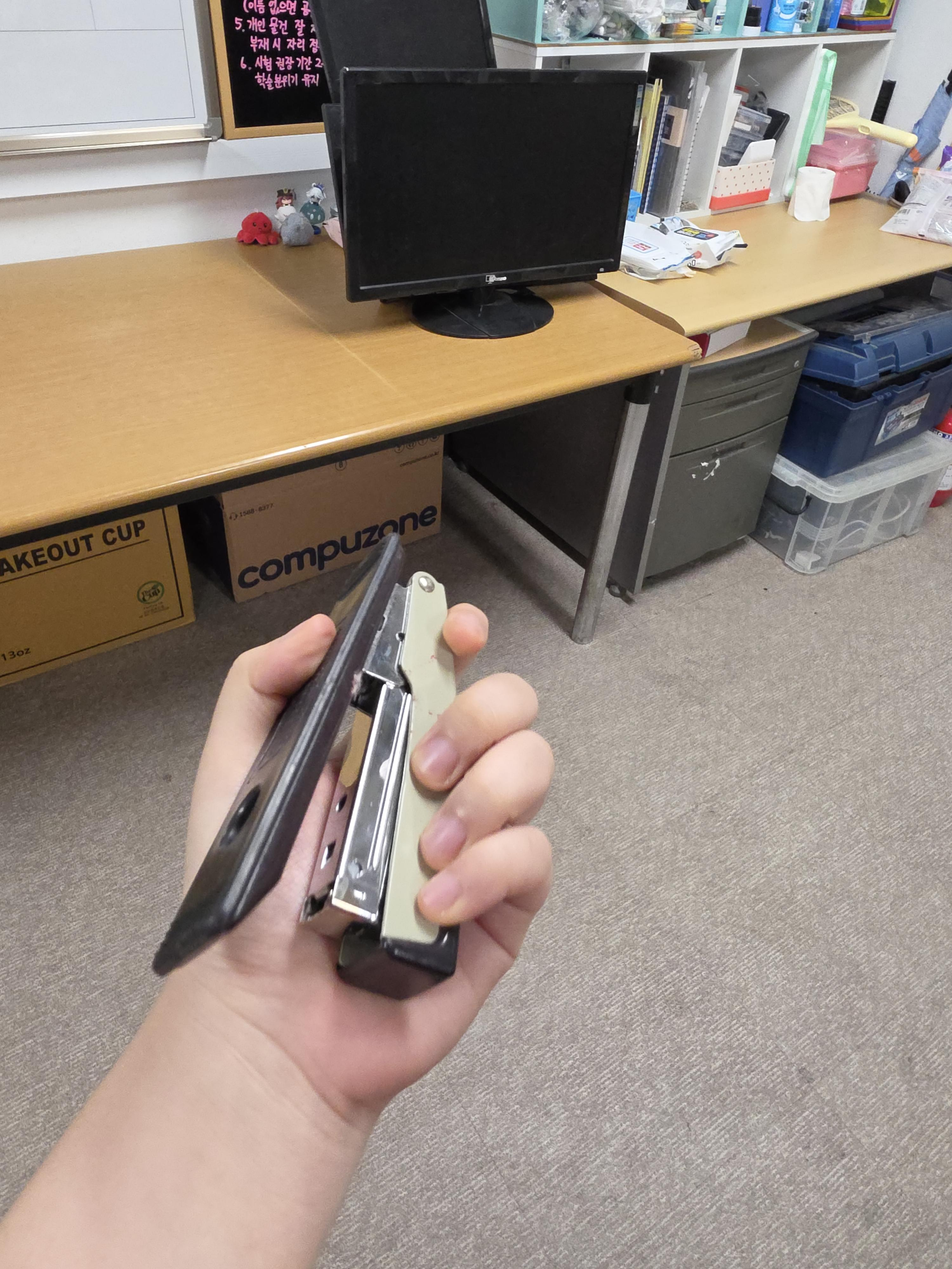stapler: (152, 531, 460, 1001)
tissue: (618, 216, 747, 282), (788, 165, 836, 222)
